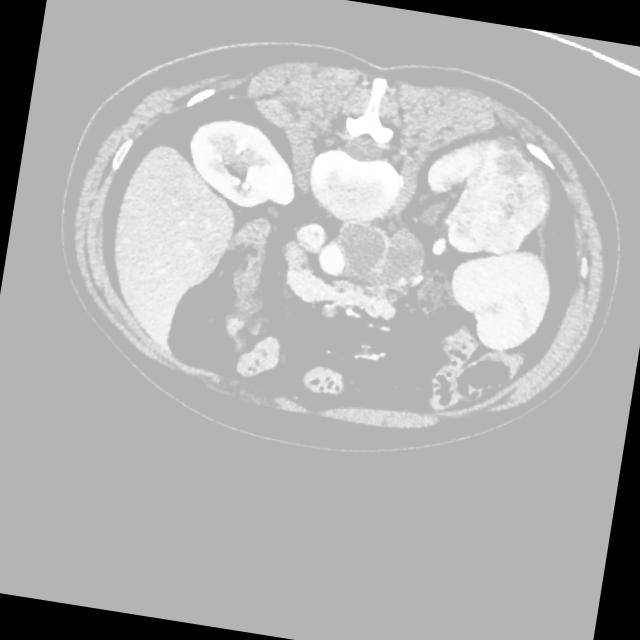TUMOR: (140, 145, 567, 439)
